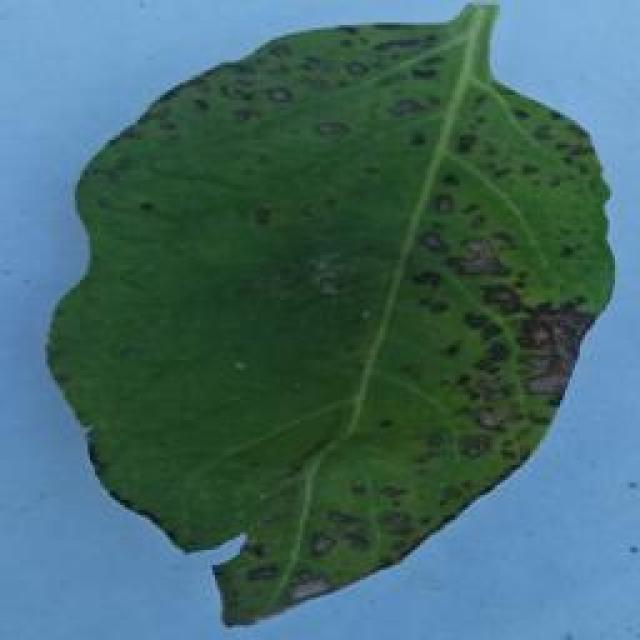Potato_Early_Blight: (47, 12, 640, 621)
